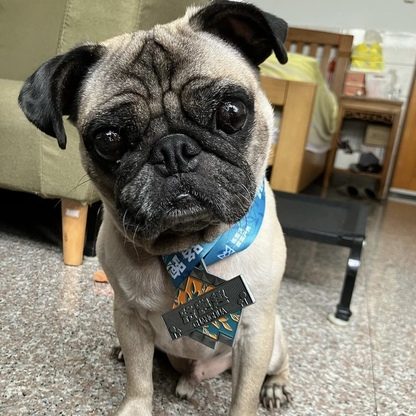Pug: (13, 1, 312, 416)
